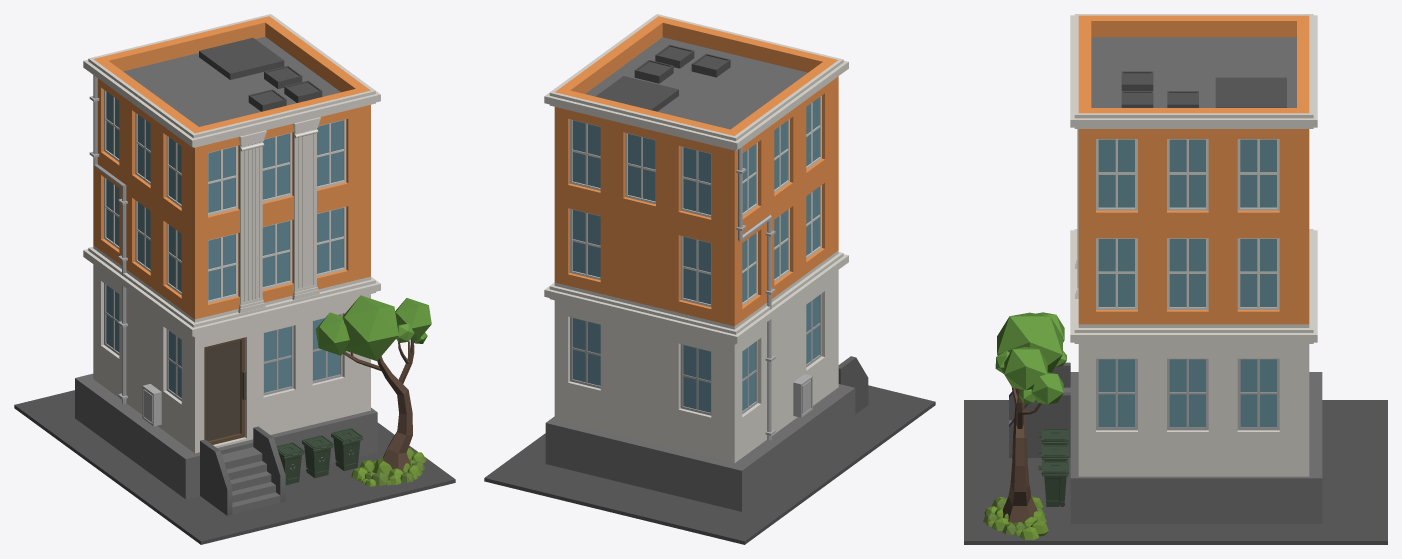
The model's file is house4.glb.
The picture shows the model from 3 angles, left to right: view 1: azimuth 30°, elevation 25°; view 2: azimuth 150°, elevation 25°; view 3: azimuth 270°, elevation 25°; orthographic projection. The views are drawn at different scales.
Parts seen in each view (by area): view 1: Box007; view 2: Box007; view 3: Box007.
Boxes of the visible parts, box(x1,y1,x2,y2) form: Box007: box(14, 14, 455, 544); Box007: box(484, 14, 935, 544); Box007: box(964, 14, 1387, 544).
Bounding box in the file's own units: 2.04 × 2.72 × 2.53.
